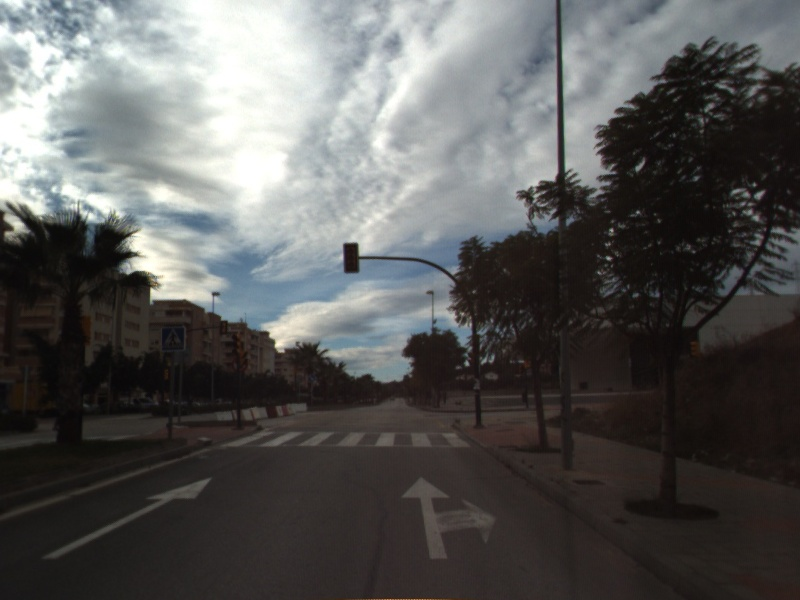STRAIGHT: (39, 475, 215, 561)
STRAIGHT_RIGHT: (399, 474, 499, 561)
